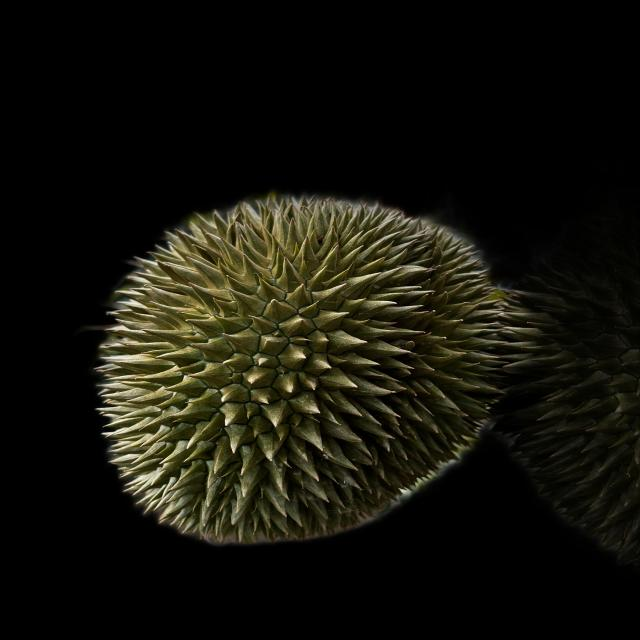immature: (91, 190, 518, 543)
